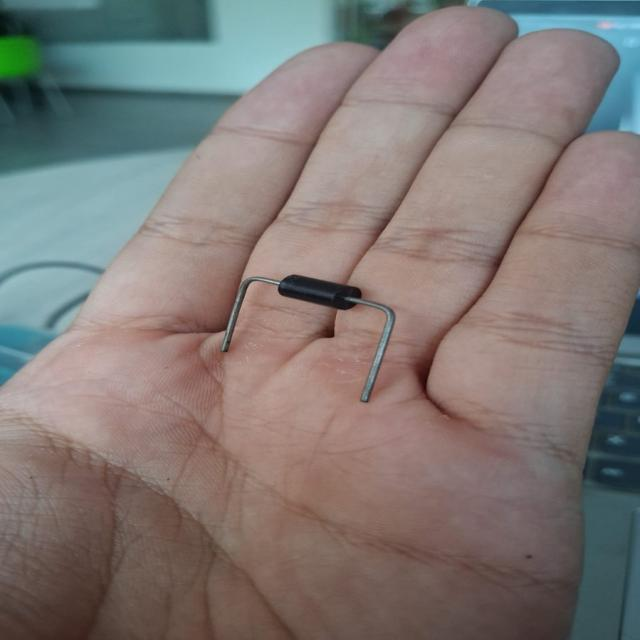Diodo: (221, 274, 394, 403)
